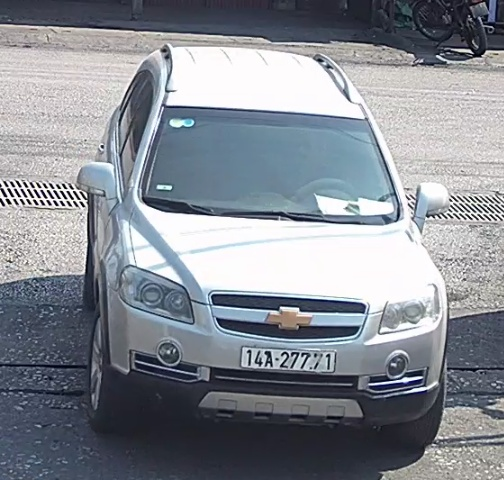vehicle plate: (237, 343, 342, 382)
